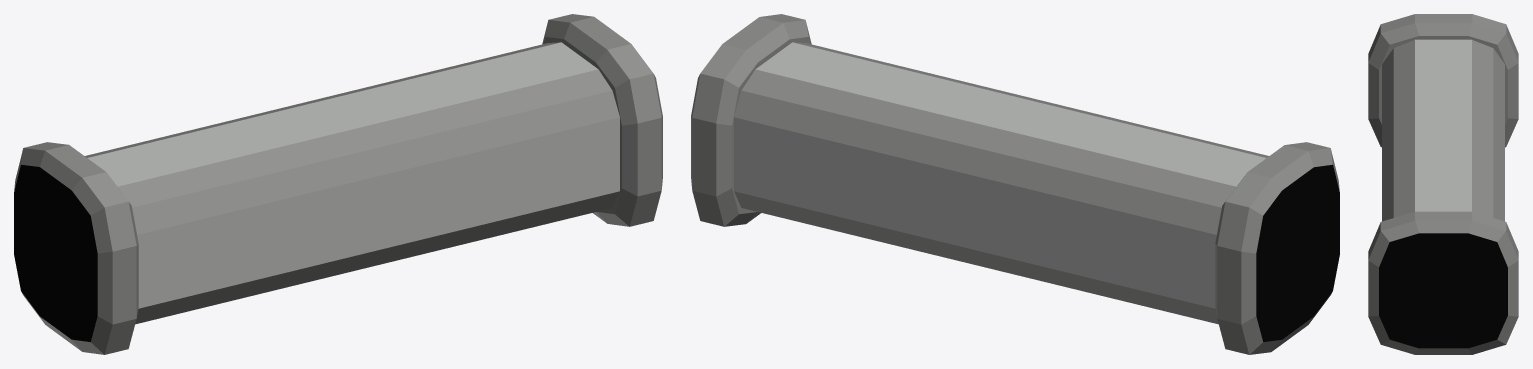
File: PIPE_STRAIGHT.fbx
3 views of the same model, side by side, from view 1: azimuth 30°, elevation 25°; view 2: azimuth 150°, elevation 25°; view 3: azimuth 270°, elevation 25° (orthographic). The views are drawn at different scales.
Visible parts, largest first — view 1: pCube5; view 2: pCube5; view 3: pCube5.
Part boxes in pixels (x1,y1,x2,y2): pCube5: (14, 14, 662, 354); pCube5: (691, 14, 1339, 354); pCube5: (1368, 14, 1518, 354).
Bounding box in the file's own units: 8.63 × 2.54 × 2.58.
